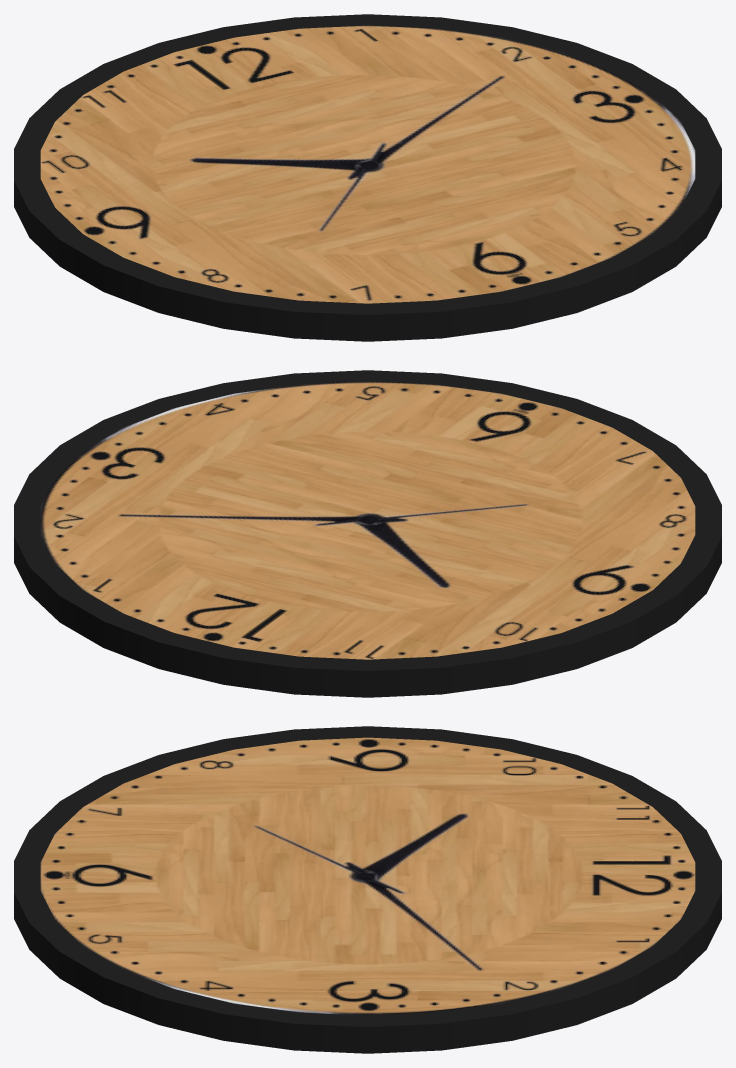
File: clock2.FBX
3 views of the same model, one above another, from view 1: azimuth 30°, elevation 25°; view 2: azimuth 150°, elevation 25°; view 3: azimuth 270°, elevation 25° (orthographic).
Parts seen in each view (by area): view 1: clock2; view 2: clock2; view 3: clock2.
Part boxes in pixels (<box>): clock2: <box>14,14,721,341</box>; clock2: <box>14,370,721,697</box>; clock2: <box>14,726,721,1053</box>.
Size of the model in its own units: 3.5 by 0.145 by 3.48.
